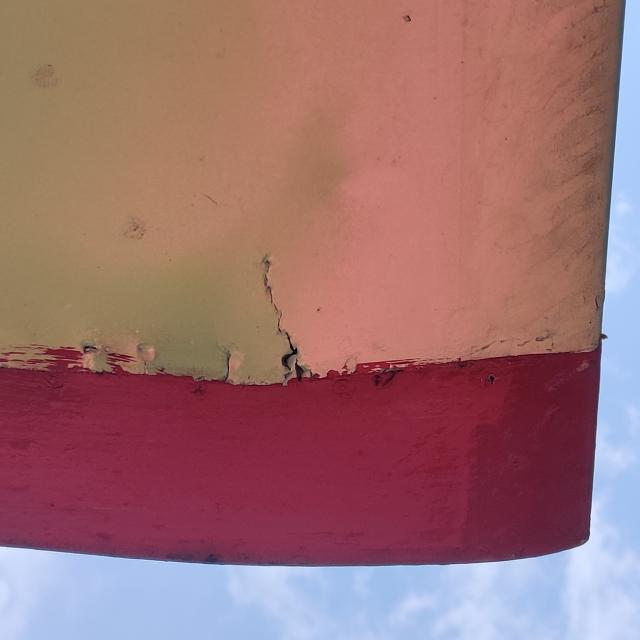crack: (248, 239, 326, 388), (207, 335, 250, 392)
